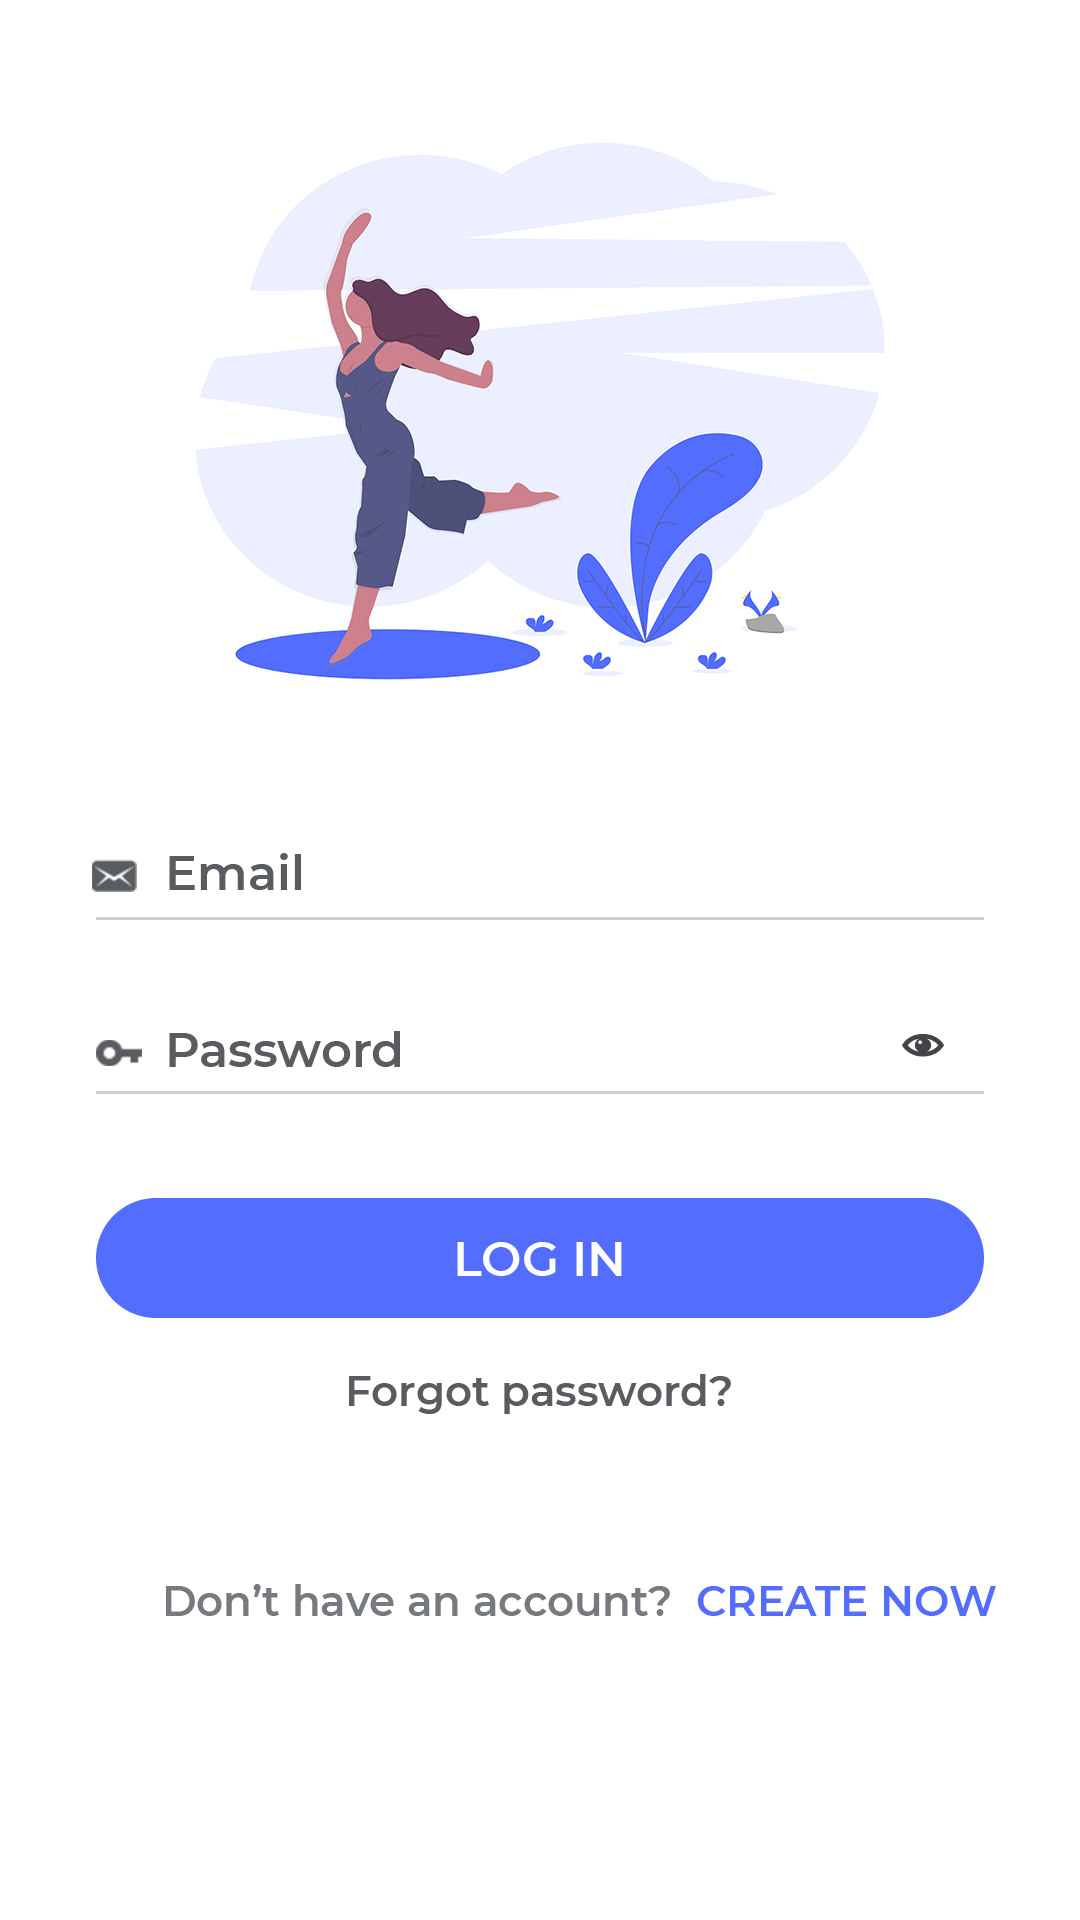EditText: (92, 852, 985, 920), (96, 1031, 985, 1095)
Icon: (92, 860, 138, 893), (901, 1034, 945, 1058)
Image: (195, 142, 887, 680), (96, 1040, 142, 1067)
Text: (166, 1582, 673, 1618), (348, 1373, 733, 1416), (698, 1585, 997, 1618), (169, 1031, 401, 1068), (169, 852, 303, 891)
TextButton: (96, 1197, 985, 1319)
